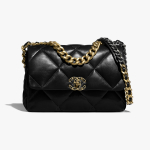channel: (16, 32, 136, 114), (56, 49, 96, 64), (64, 75, 92, 94)
